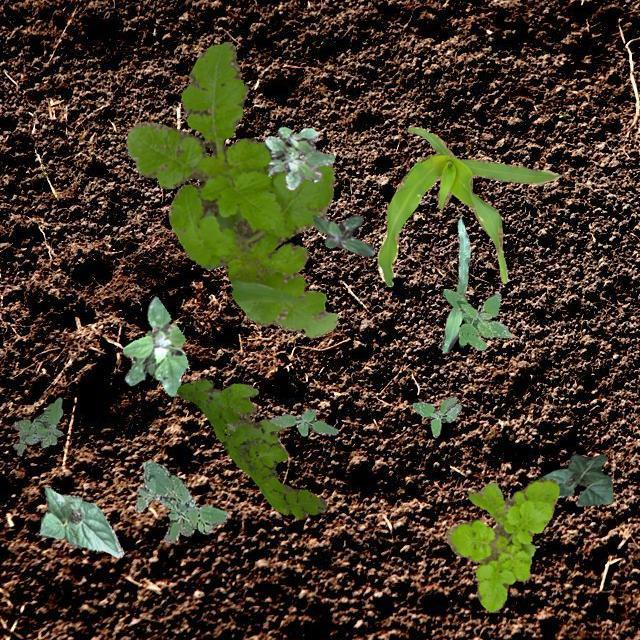crop: (377, 127, 560, 286), (38, 486, 122, 556), (440, 218, 470, 352), (542, 452, 612, 506)
weed: (126, 40, 338, 338), (176, 378, 326, 518), (444, 476, 558, 612), (132, 459, 228, 542), (122, 296, 188, 396), (264, 125, 334, 188), (442, 288, 511, 349), (12, 396, 62, 454), (312, 213, 374, 256), (412, 396, 461, 436), (270, 408, 336, 436)
